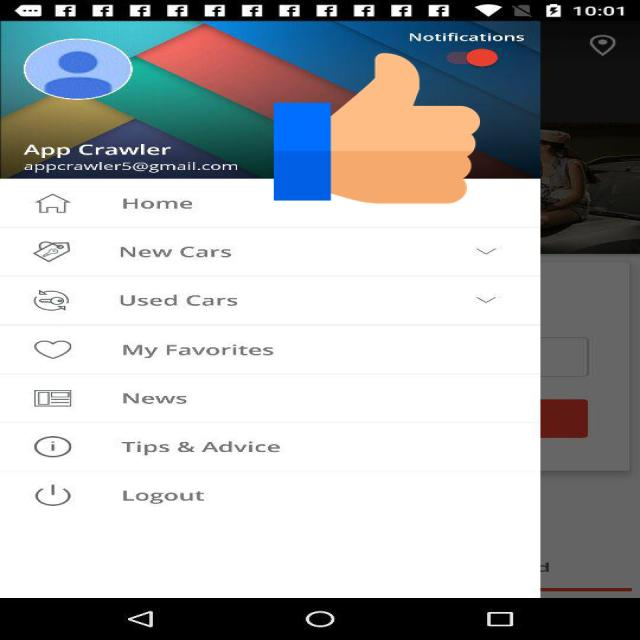privacy zuckering: (274, 49, 480, 208)
